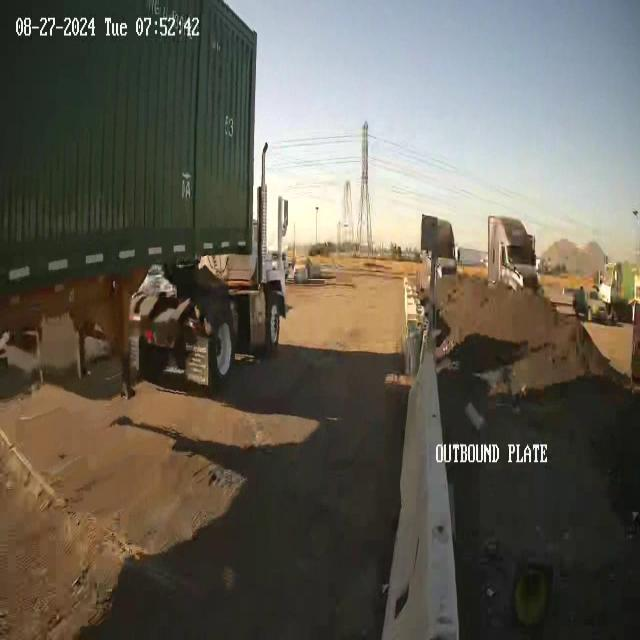CONTAINER: (1, 1, 255, 289)
